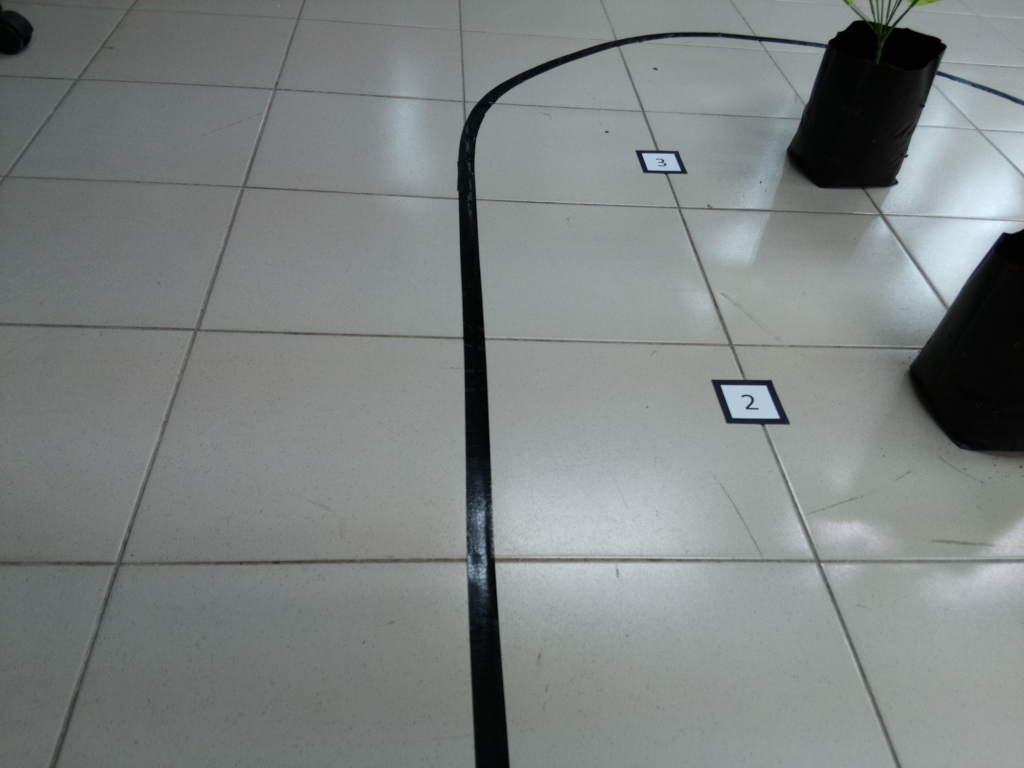forward: (439, 173, 524, 768)
